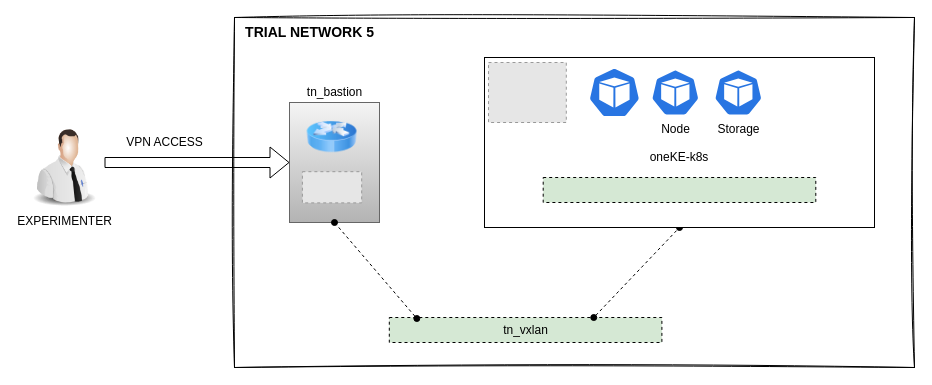
Image size: 932x385. Some labels were removed from this diagram. Grey dashed boxes stand in for pictures. The shapes that lost their labels are listed below. From the top down, each one's centre as x and y in pixels, then its label:
At (614,92): "Master".
At (679,189): "vnet-private_oneke".
